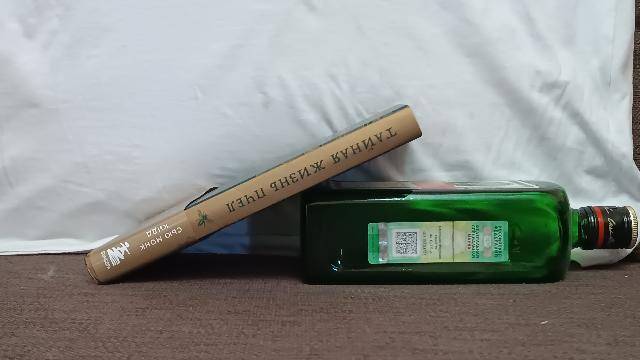book-s-spine: (84, 107, 423, 285)
